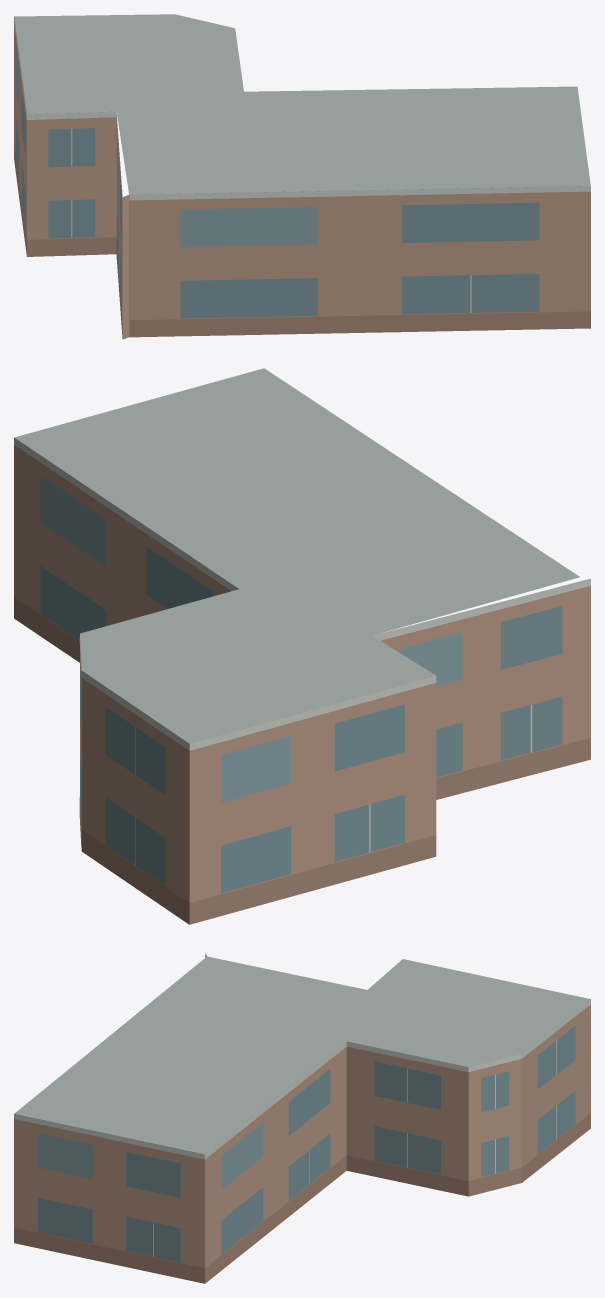
File: survey-upis-32803979.glb
3 renders of one model, top to bottom at view 1: azimuth 30°, elevation 25°; view 2: azimuth 150°, elevation 25°; view 3: azimuth 270°, elevation 25°, orthographic. The views are drawn at different scales.
Parts seen in each view (by area): view 1: survey-upis-32803979.tmp; view 2: survey-upis-32803979.tmp; view 3: survey-upis-32803979.tmp.
Boxes of the visible parts, x1,y1,x2,y2 form: survey-upis-32803979.tmp: (14, 14, 590, 339); survey-upis-32803979.tmp: (14, 368, 590, 924); survey-upis-32803979.tmp: (14, 953, 590, 1283).
Bounding box in the file's own units: 20.37 × 6.1 × 24.66.
